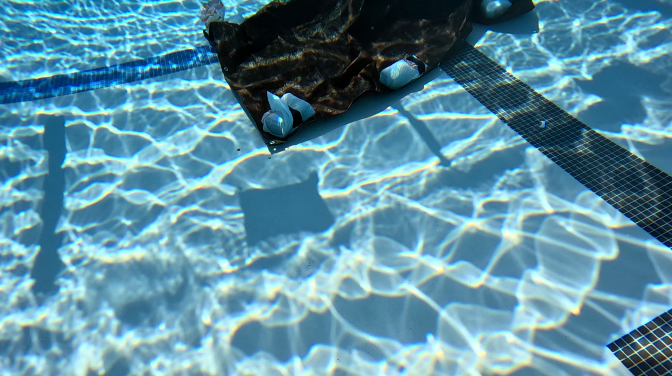sandbag: (199, 0, 536, 146)
